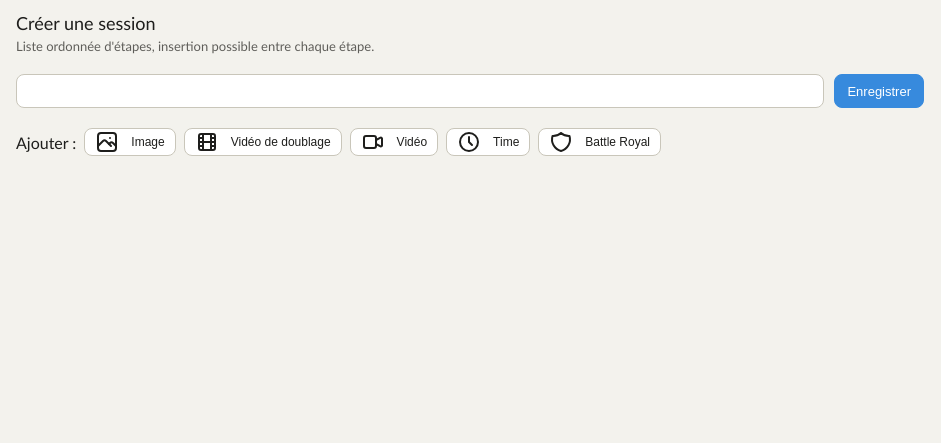
SessionCreationScreen - new session, local step list › toggles the inline editor open and closed, rendering the matching variant fieldset
The width and height of the screenshot is (941, 443).
Click the button "Time" at {"x": 488, "y": 142}, box [446, 128, 530, 156]
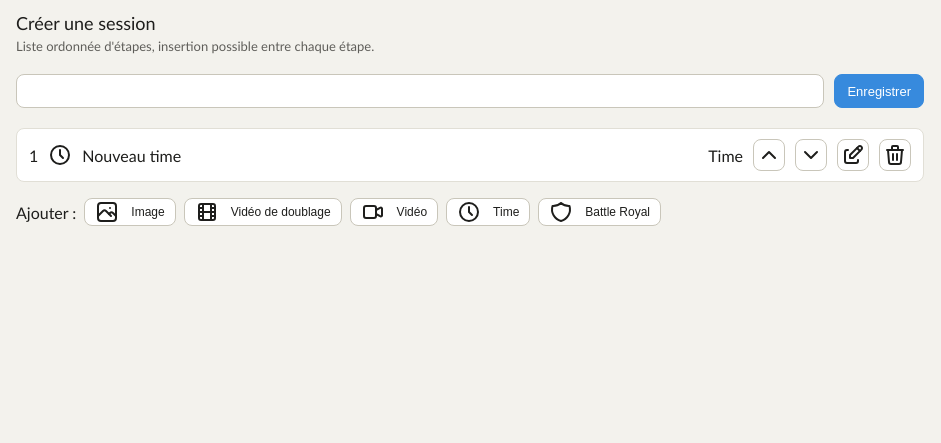
Expected: the field labelled "Nombre d'impros" is not shown
Click the button named "Modifier l'étape" at {"x": 853, "y": 155}, box [837, 139, 869, 171]
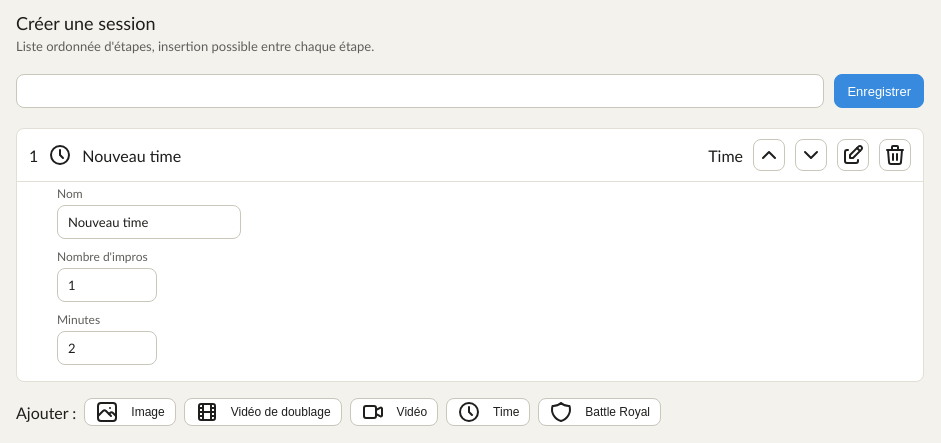
Expected: the number field labelled "Nombre d'impros" is shown, [57, 268, 157, 302]
Click the button named "Modifier l'étape" at {"x": 853, "y": 155}, box [837, 139, 869, 171]
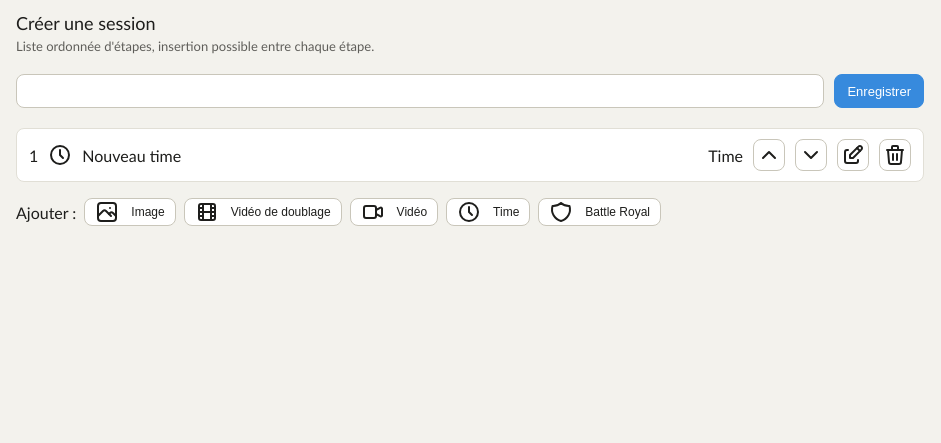
Expected: the label labelled "Nombre d'impros" is gone
